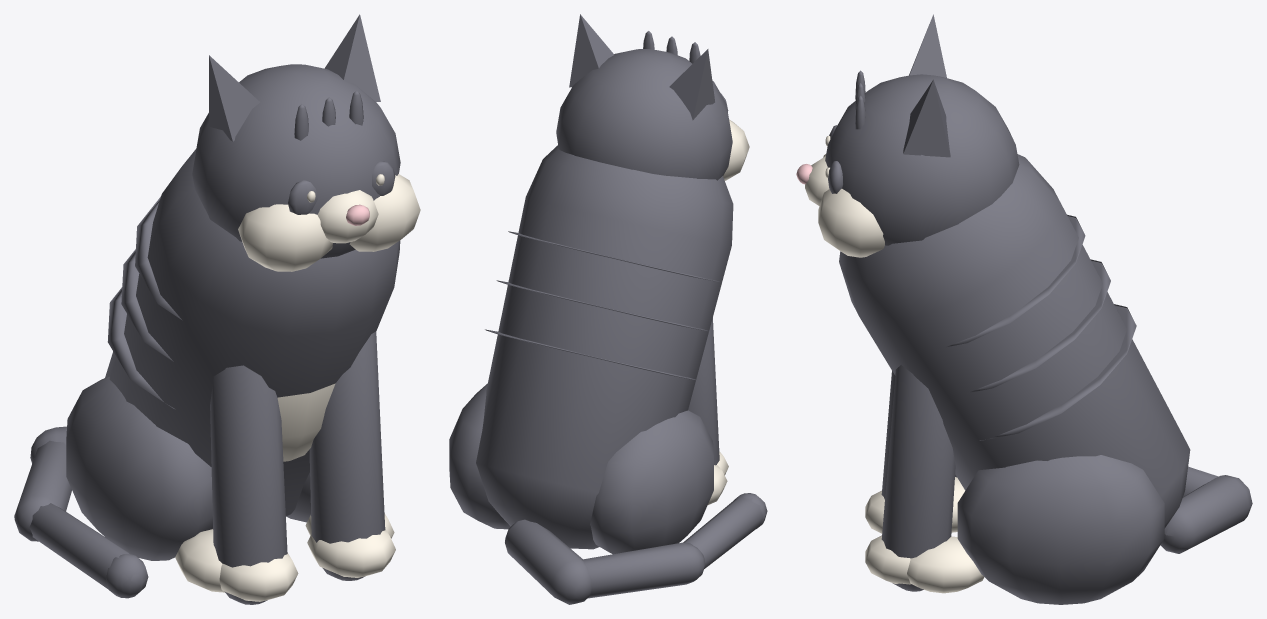
Rendered from companion-animals-and-pet-home-cat-sitting-tuxedo-3e902ede__20544.glb.
3 views of the same model, side by side, from view 1: azimuth 30°, elevation 25°; view 2: azimuth 150°, elevation 25°; view 3: azimuth 270°, elevation 25° (orthographic). The views are drawn at different scales.
Parts seen in each view (by area): view 1: cat-sitting-tuxedo; view 2: cat-sitting-tuxedo; view 3: cat-sitting-tuxedo.
Boxes of the visible parts, x1,y1,x2,y2 form: cat-sitting-tuxedo: (14,14,420,604); cat-sitting-tuxedo: (449,14,767,604); cat-sitting-tuxedo: (796,14,1252,604).
Size of the model in its own units: 0.2997 by 0.5095 by 0.4063.
